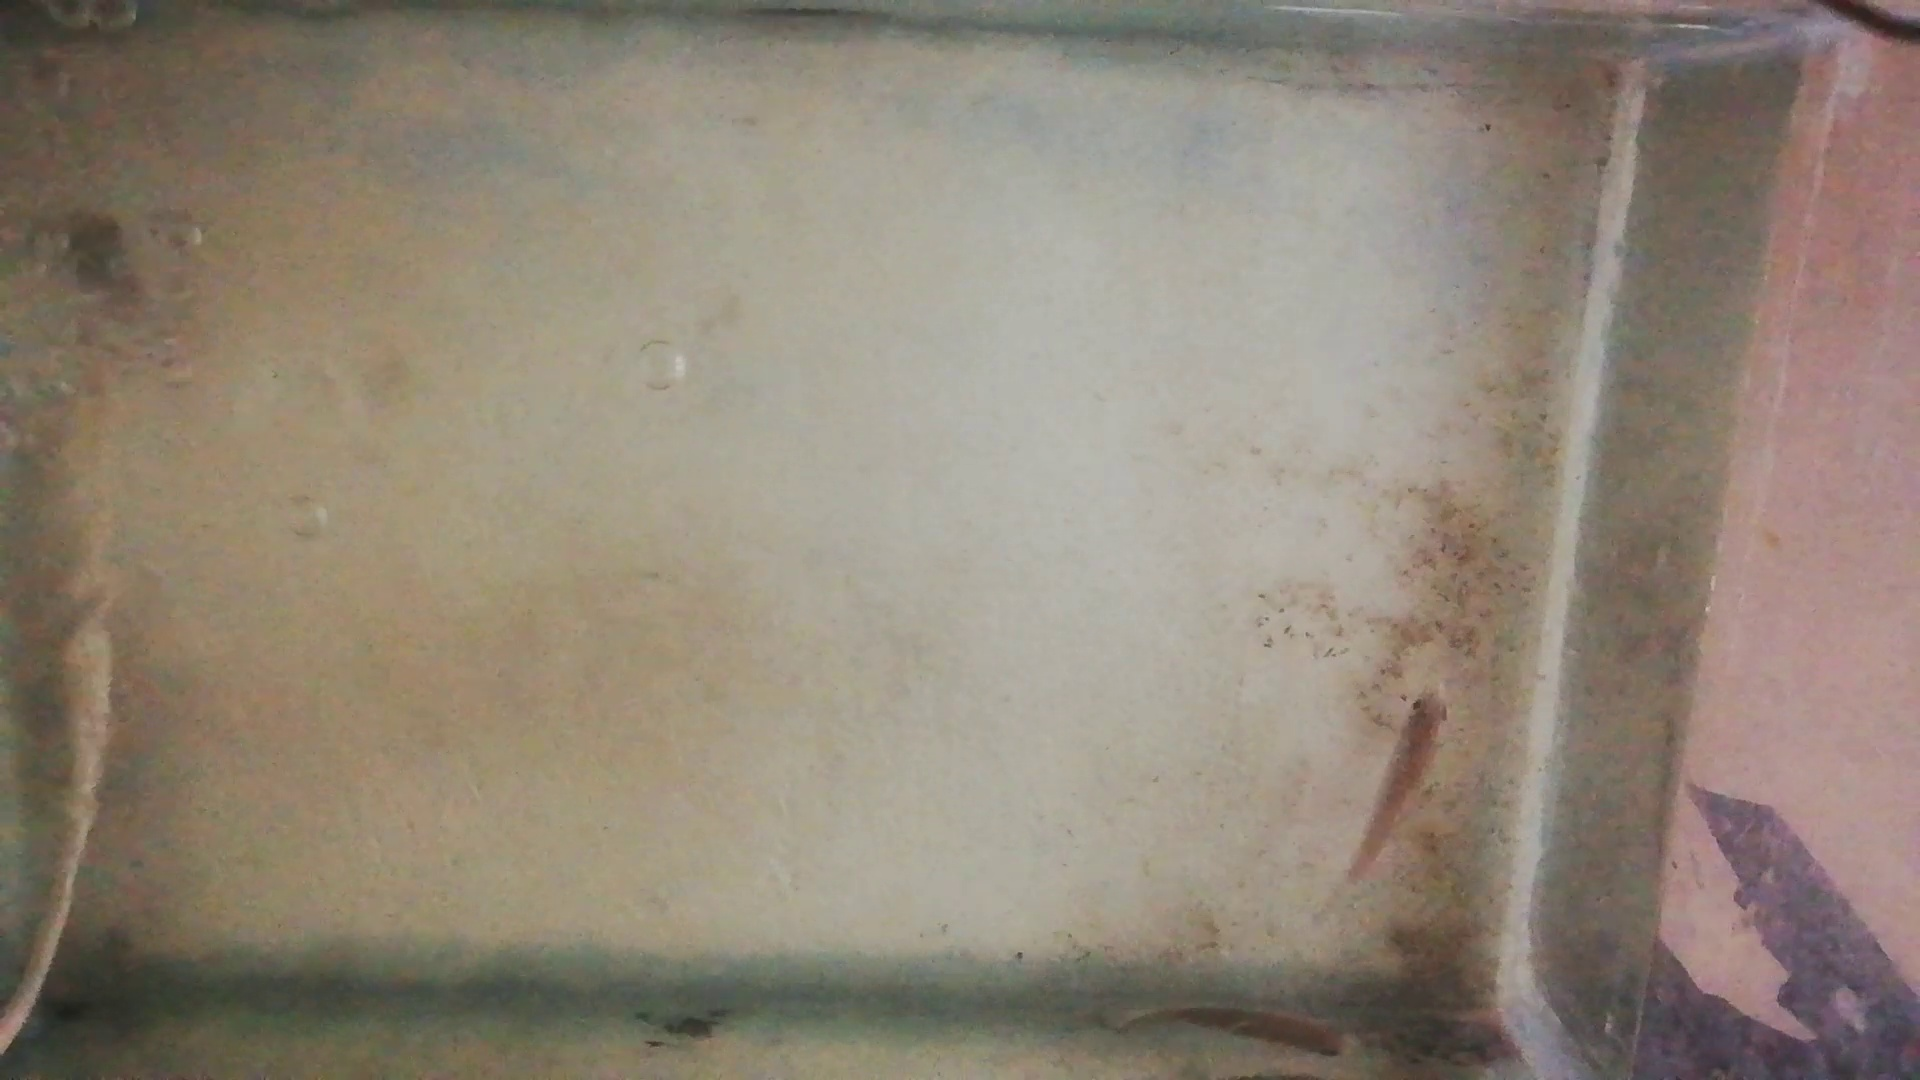fish: (1356, 684, 1451, 885), (1151, 1004, 1361, 1059)
